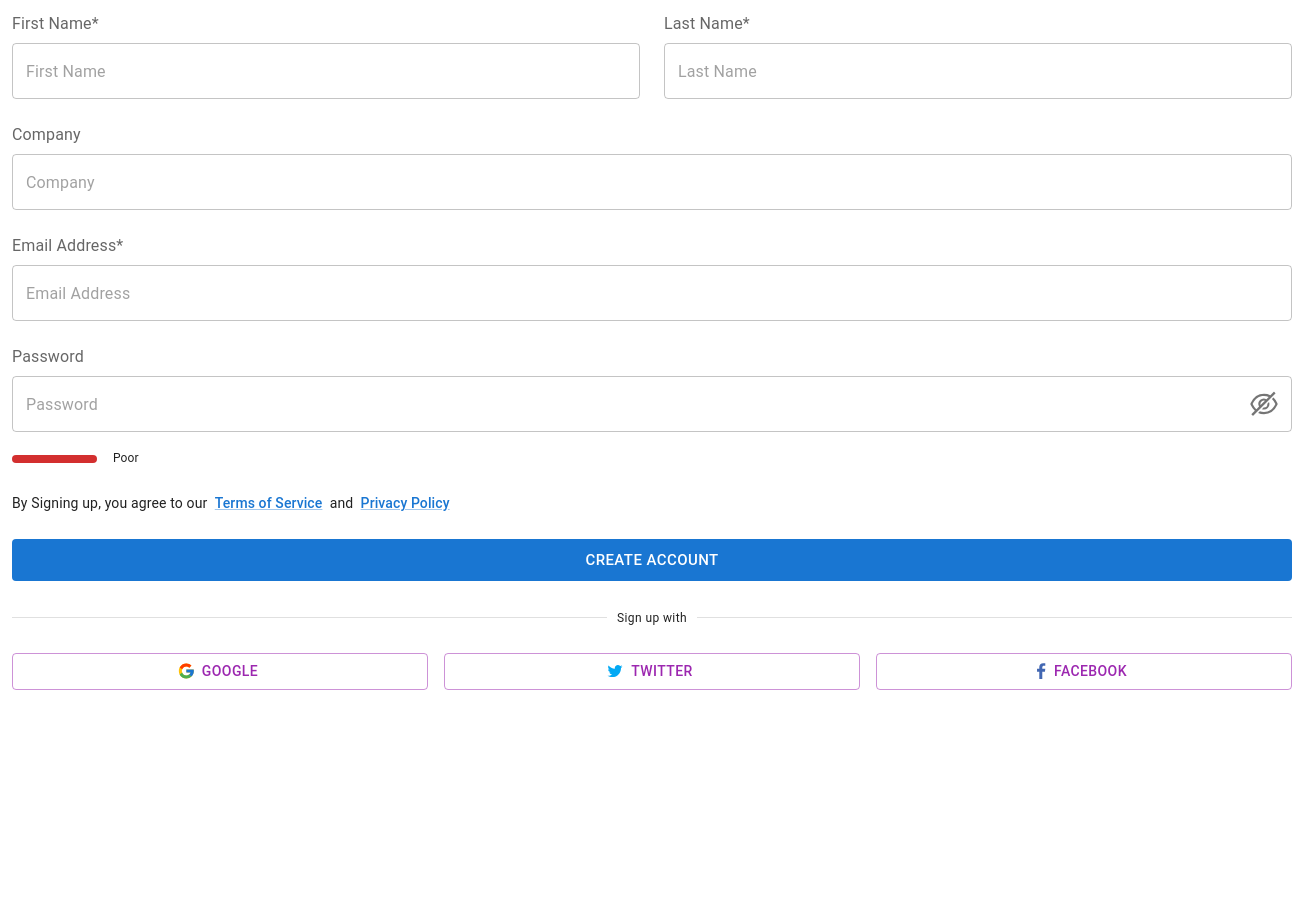
form validation should work › Form should validate when submit work
Click the button "Create Account".
click(652, 560)  # box [12,539,1292,581]
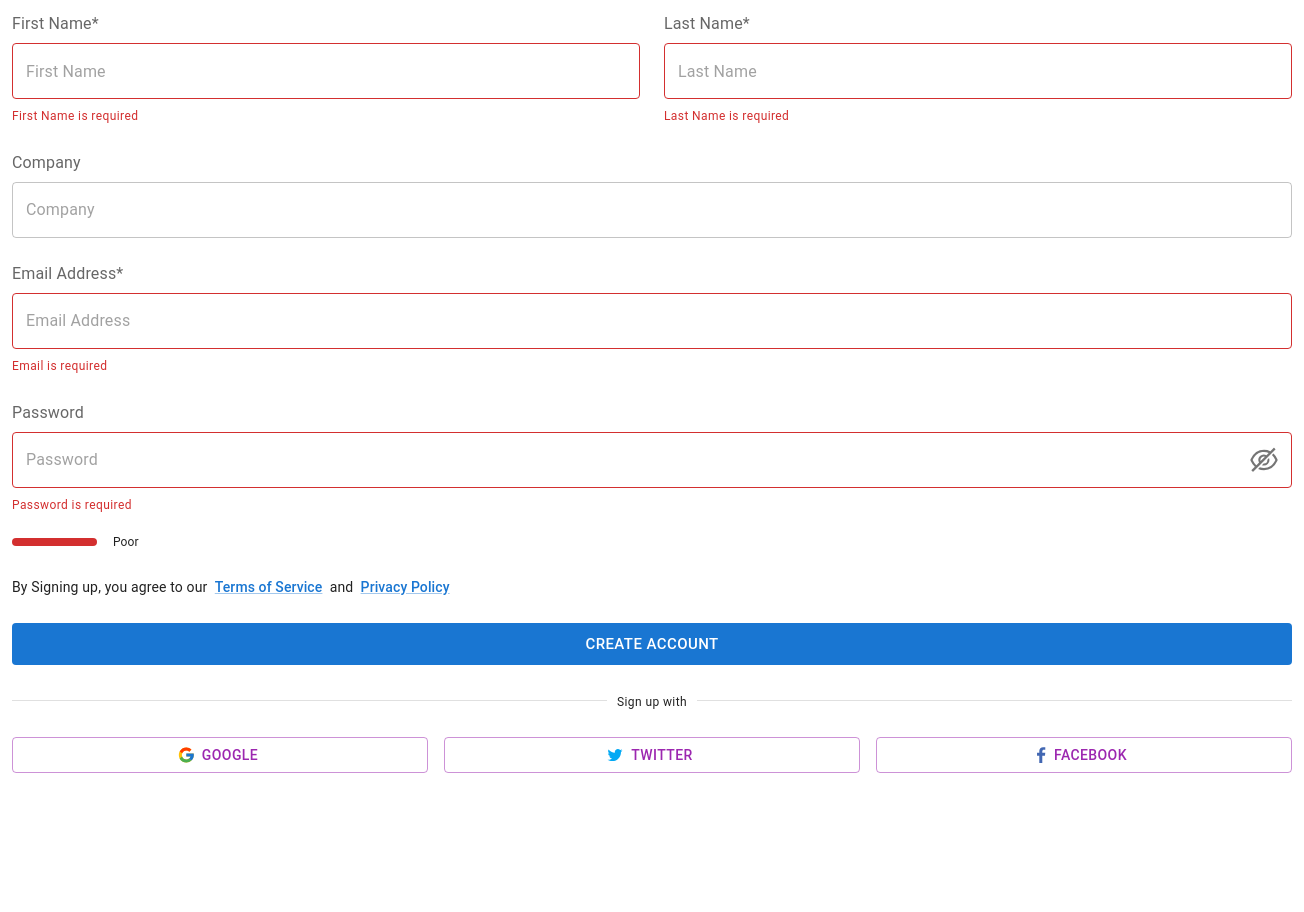
Check: the text "Password is required" is shown, box [12,498,132,512]
Check: the text "Email is required" is shown, box [12,359,107,373]
Check: the text "Last Name is required" is shown, box [664,109,789,123]
